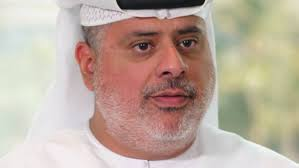middle_eastern_male: (90, 2, 219, 154)
